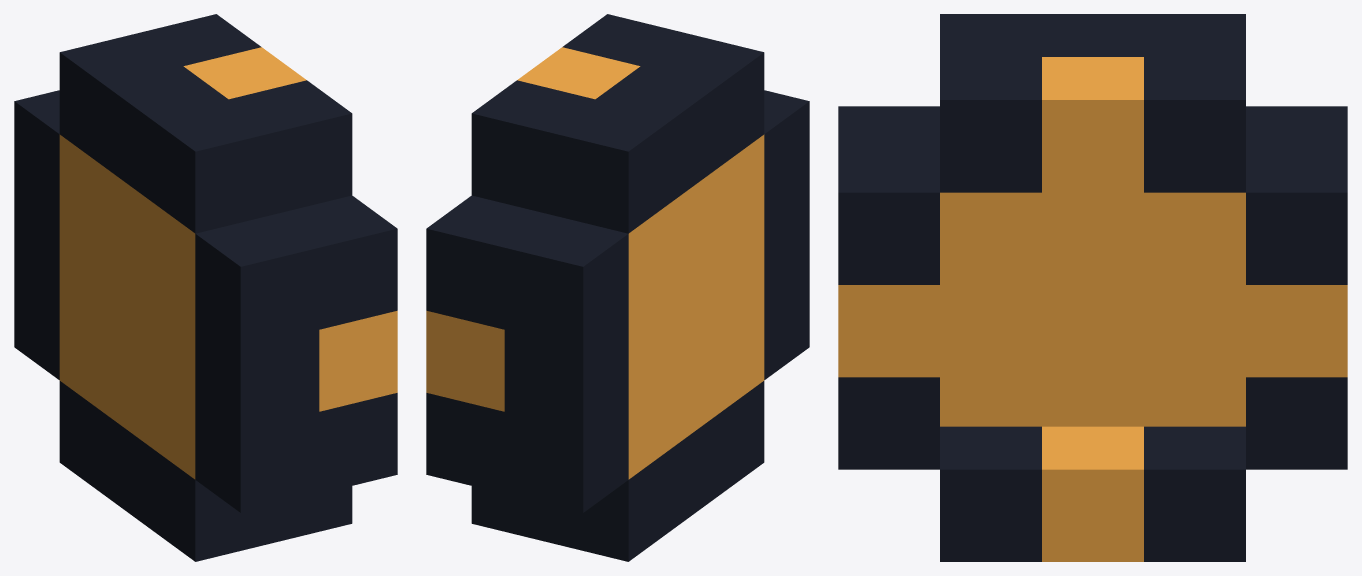
Rendered from MissileSmall1.obj.
The picture shows the model from 3 angles, left to right: view 1: azimuth 30°, elevation 25°; view 2: azimuth 150°, elevation 25°; view 3: azimuth 270°, elevation 25°; orthographic projection. The views are drawn at different scales.
Size of the model in its own units: 2 by 5 by 5.
Materials: 1 (1 with a texture image).
